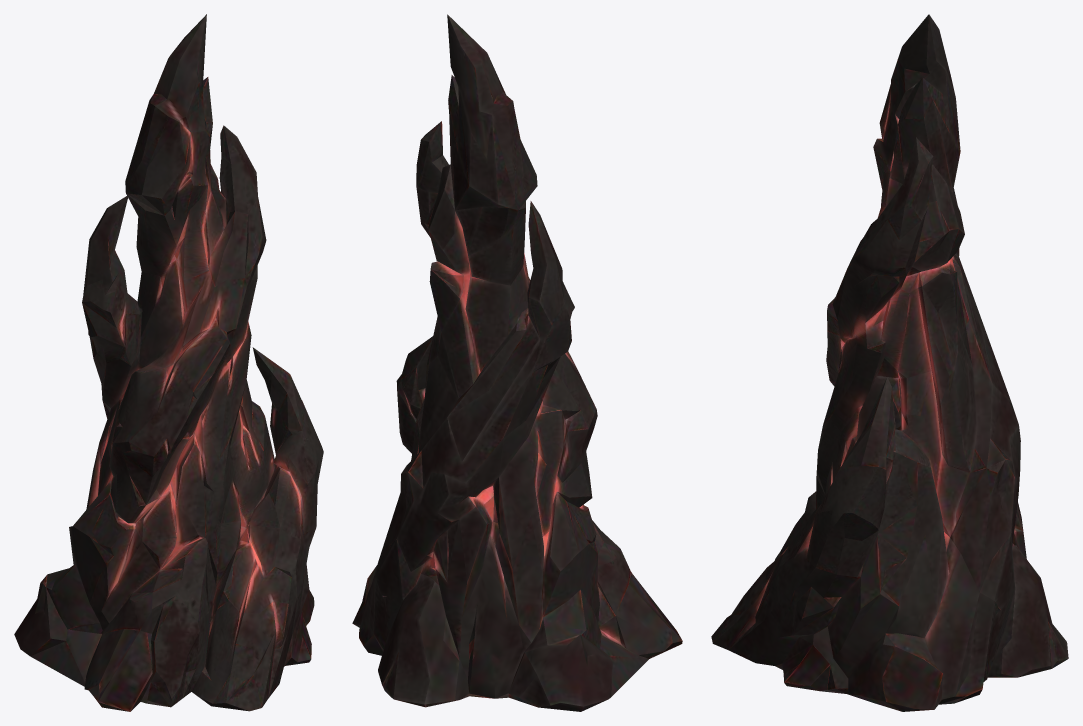
The model's file is prop-rock-spire.glb.
3 views of the same model, side by side, from view 1: azimuth 30°, elevation 25°; view 2: azimuth 150°, elevation 25°; view 3: azimuth 270°, elevation 25° (orthographic). The views are drawn at different scales.
Bounding box in the file's own units: 0.8564 × 1.9 × 0.9414.
Materials: 1 (1 with a texture image).
